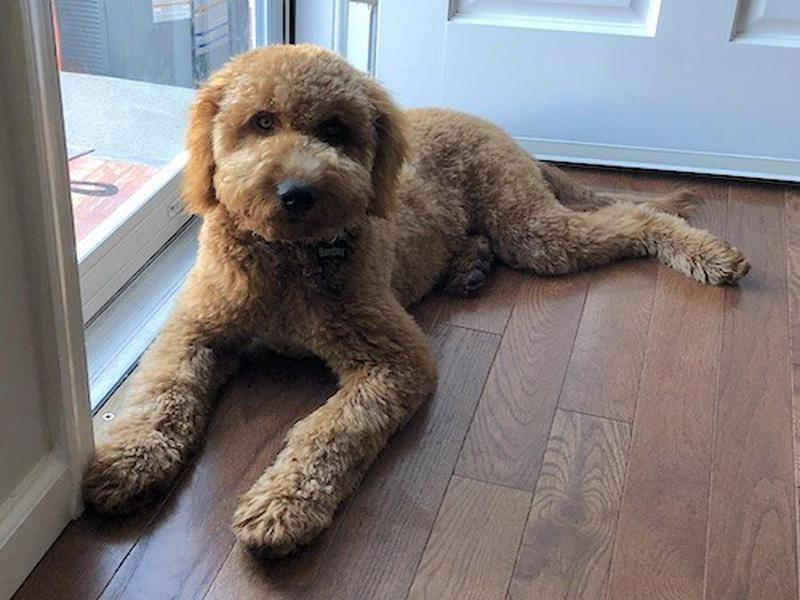dog_down: (76, 45, 757, 566)
